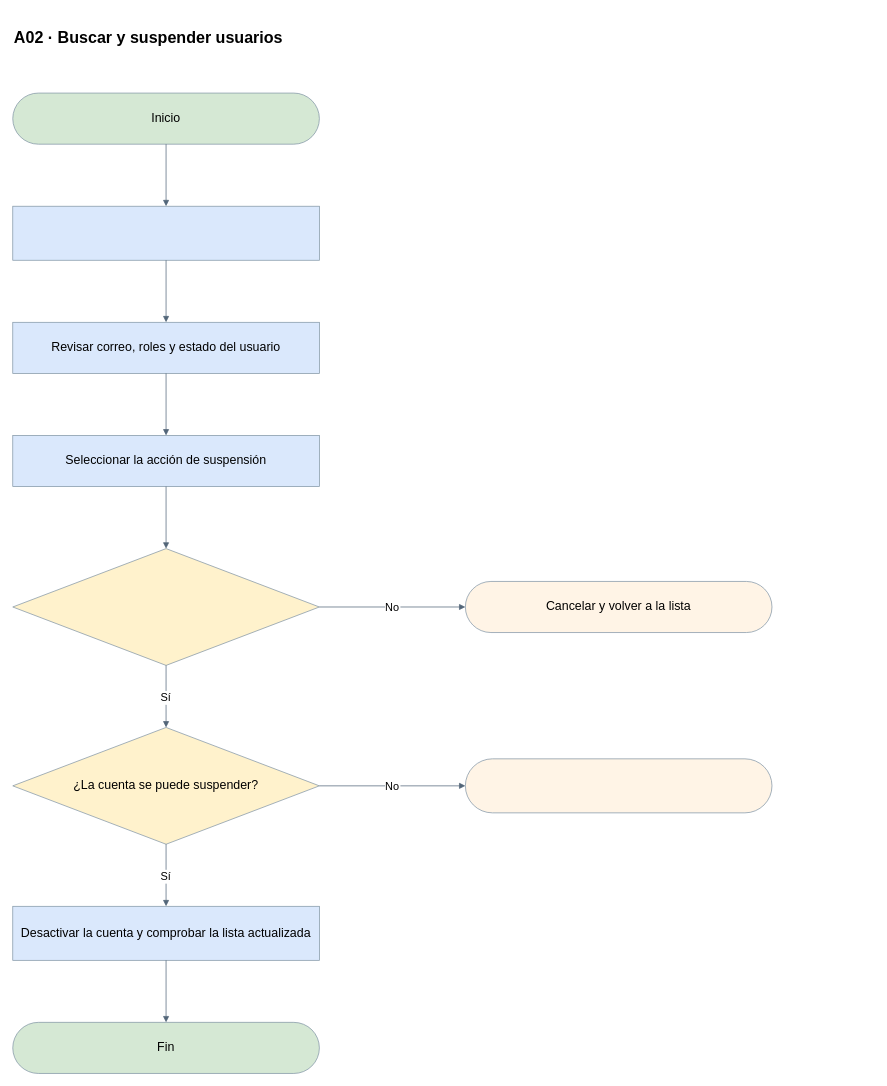
Some shapes in this 887 by 1086 pixel diagram are drawn without their labels. Each missing label, with the box of its shape:
Abrir Gestión de Usuarios y buscar por correo electrónico: (12, 205, 319, 260)
Bloquear la operación: no se permite la propia cuenta ni un superadministrador: (465, 758, 772, 813)
¿Confirmar la suspensión?: (12, 548, 319, 665)
